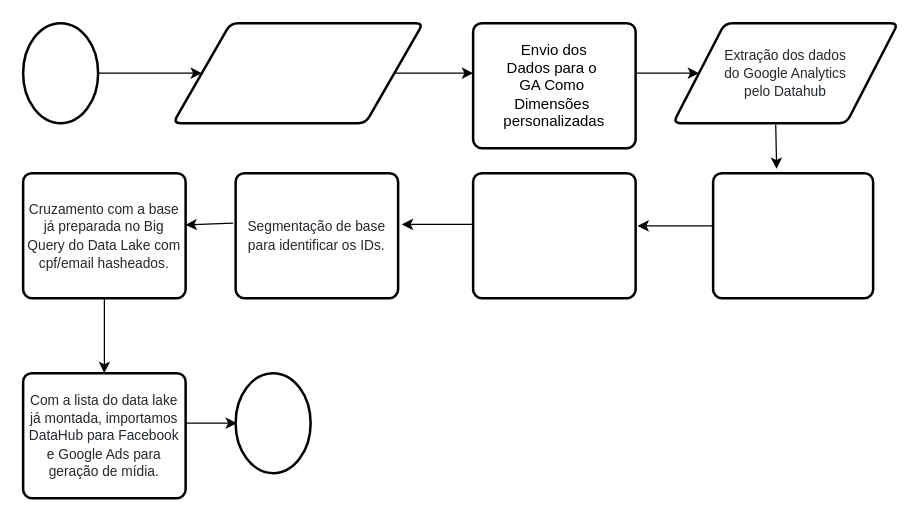
This 920x520 diagram has some shape labels left out. The box of each missing label's shape, as (x1, y1, x2, y2) in pixels:
Armazenamento dos dados no nosso Big Query do Datahub e no da ALSO.: (711, 171, 874, 299)
Coleta dos dados (CPF, email) hasheados sha256 através das dimensões globais: (171, 21, 424, 124)
Solicitação de lista de audiência: (471, 171, 636, 299)
